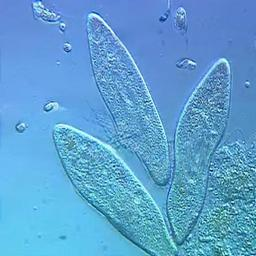Paramecium: (53, 124, 175, 255), (88, 9, 170, 188), (168, 58, 231, 242)
